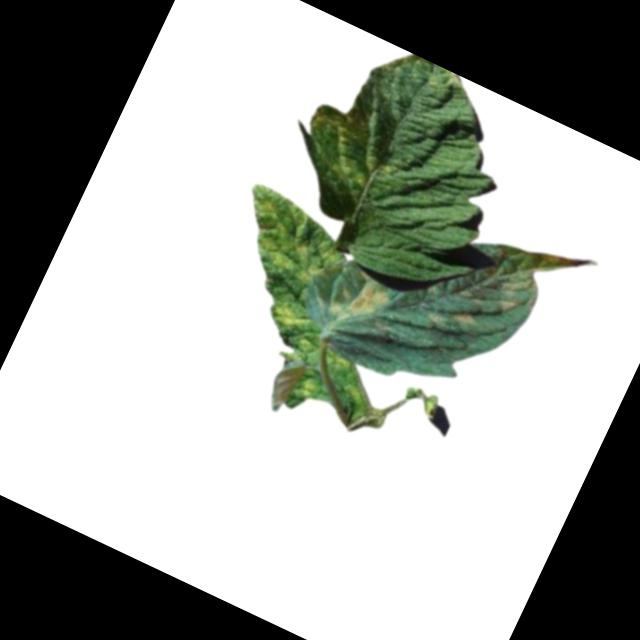Leaf_Mold: (414, 211, 571, 367), (286, 81, 404, 202), (223, 179, 348, 292), (325, 263, 399, 337), (268, 299, 310, 335)
